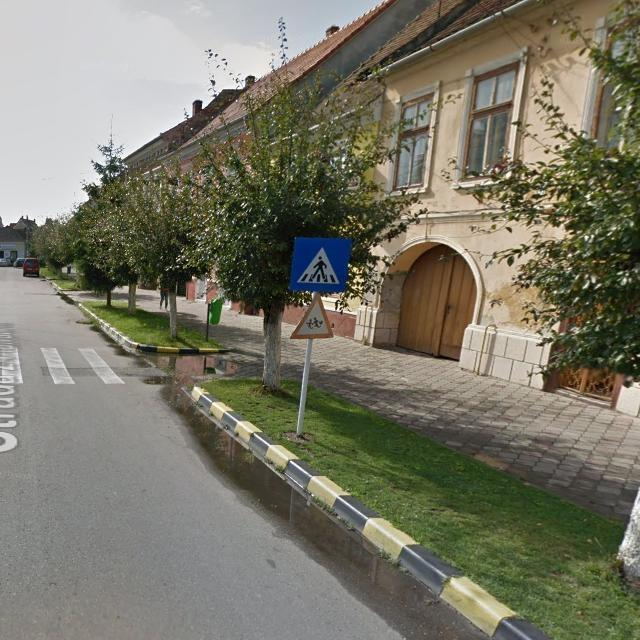info_crosswalk: (290, 236, 351, 292)
